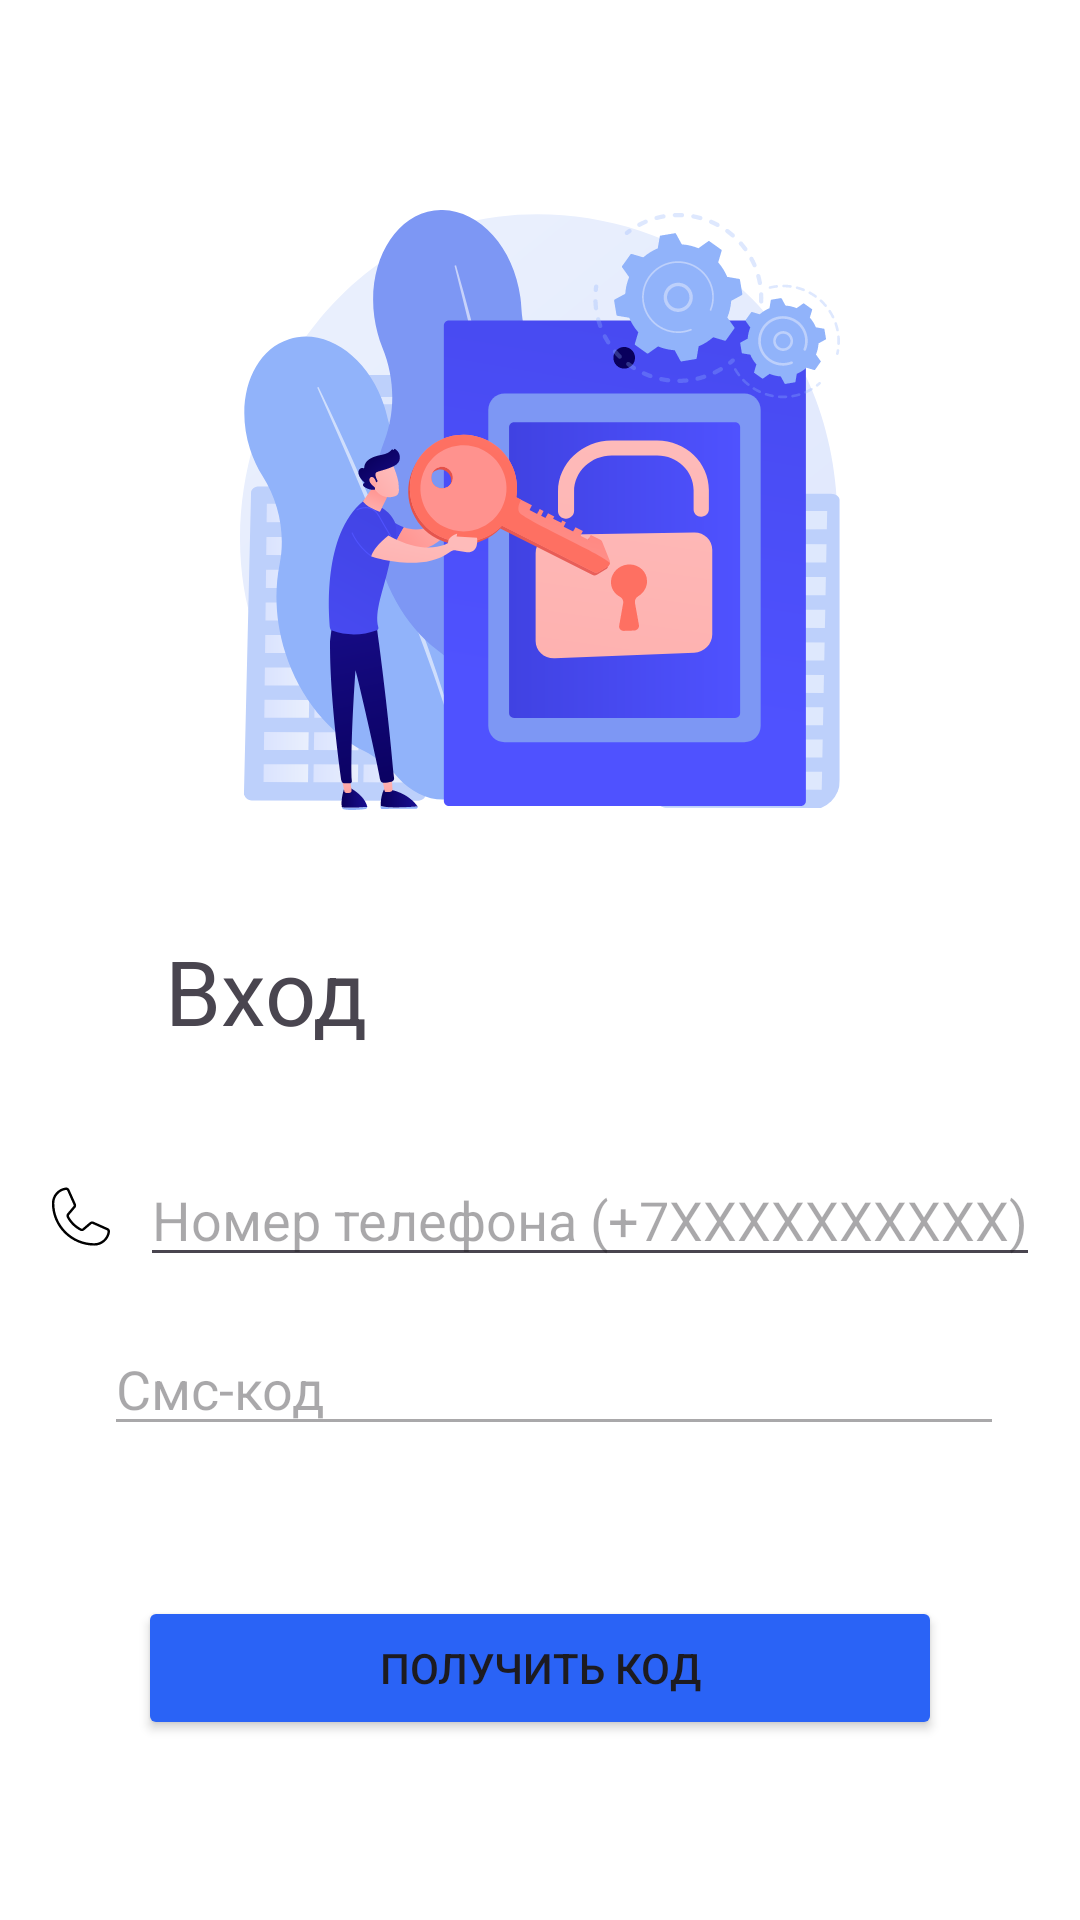

Icons on this 1080w x 1920h Android screen, each with its box as {"x1": x1, "y1": y1, "x2": x2, "y2": y2}:
Иконка номера телефона: {"x1": 52, "y1": 1187, "x2": 110, "y2": 1246}
